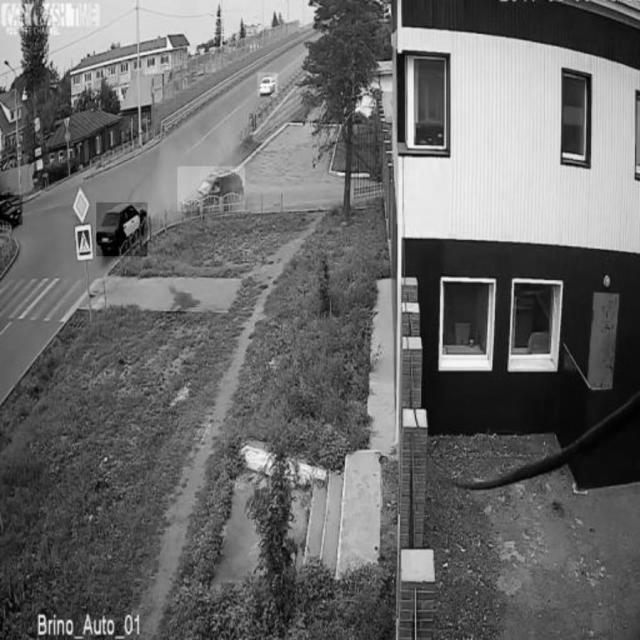vehicle: (178, 166, 245, 211), (96, 203, 147, 257), (1, 195, 23, 225), (257, 73, 277, 97)
